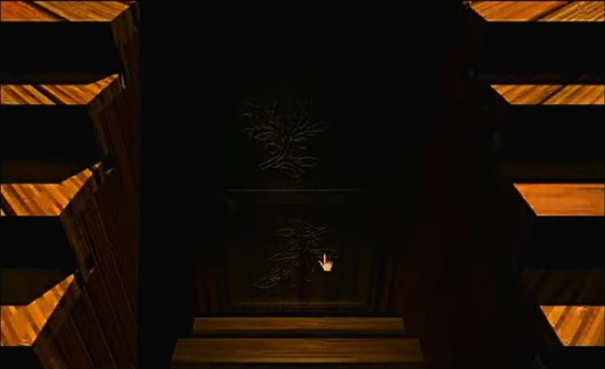Pointer: (315, 250, 337, 273)
